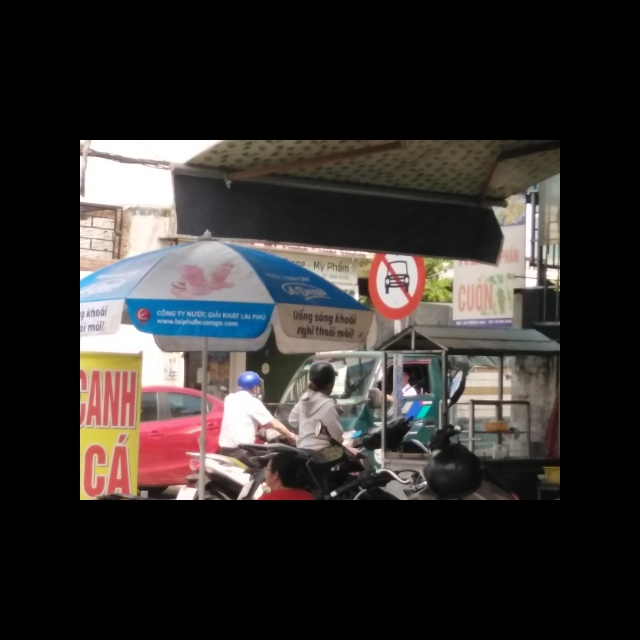Cấm xe ô tô: (364, 253, 427, 322)
